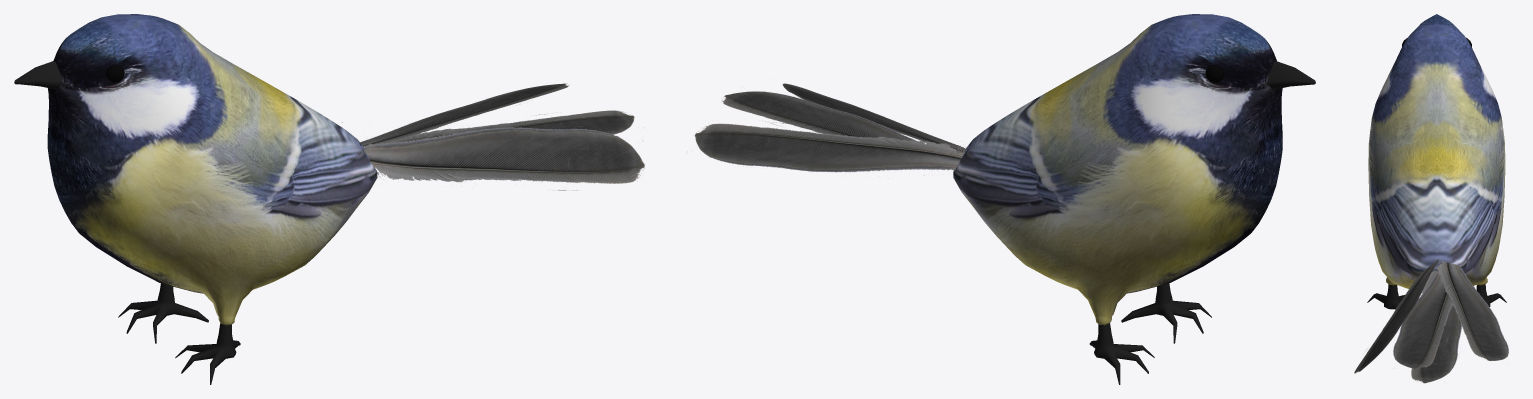
Rendered from Bird.glb.
3 renders of one model, left to right at view 1: azimuth 30°, elevation 25°; view 2: azimuth 150°, elevation 25°; view 3: azimuth 270°, elevation 25°, orthographic. The views are drawn at different scales.
Parts seen in each view (by area): view 1: body2, tail_feather1, legs, tail_feather2, tail_feather5, beak; view 2: body2, tail_feather2, tail_feather5, legs, tail_feather1, beak; view 3: body2, tail_feather5, tail_feather2, tail_feather3, tail_feather1, legs.
Part boxes in pixels (x1,y1,x2,y2): body2: (47,14,377,325); tail_feather1: (342,122,644,190); legs: (118,283,240,384); tail_feather2: (360,83,569,147); tail_feather5: (367,110,643,143); beak: (14,61,63,89); body2: (953,14,1282,325); tail_feather2: (687,122,973,187); tail_feather5: (722,91,930,164); legs: (1089,283,1211,384); tail_feather1: (782,83,966,153); beak: (1266,61,1315,89); body2: (1368,14,1505,288); tail_feather5: (1393,271,1462,368); tail_feather2: (1435,260,1508,360); tail_feather3: (1411,270,1461,383); tail_feather1: (1354,259,1438,373); legs: (1367,284,1506,309).
Bounding box in the file's own units: 0.5964 × 0.3184 × 0.1952.
Materials: 5 (2 with a texture image).
